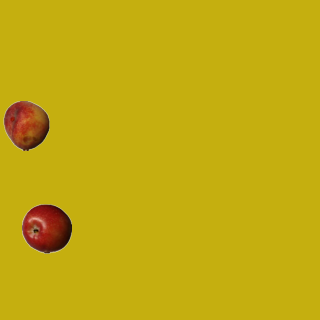Apple Braeburn: (21, 203, 71, 253)
Peach: (1, 100, 51, 150)
